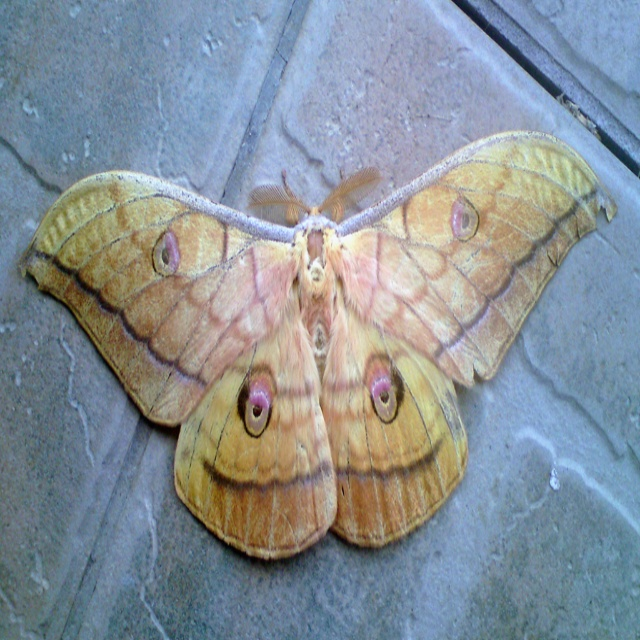Butterfly: (40, 137, 614, 538)
